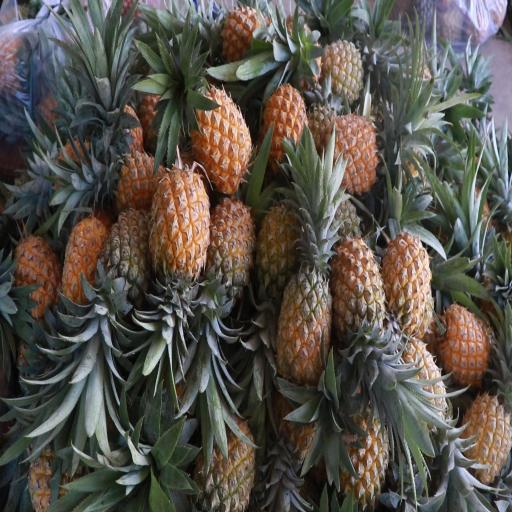------------------------------: (276, 256, 339, 396), (193, 383, 256, 512), (99, 206, 157, 311), (253, 193, 303, 308), (313, 29, 365, 107)
Pineapple - v8 v1: (144, 164, 212, 299), (186, 66, 250, 190), (327, 222, 386, 354), (333, 388, 394, 501), (377, 228, 433, 350), (201, 188, 255, 308), (316, 105, 386, 195), (98, 139, 174, 213), (259, 70, 312, 174), (435, 293, 493, 387), (61, 204, 110, 312), (4, 227, 58, 321), (459, 375, 512, 470), (212, 0, 268, 71)
